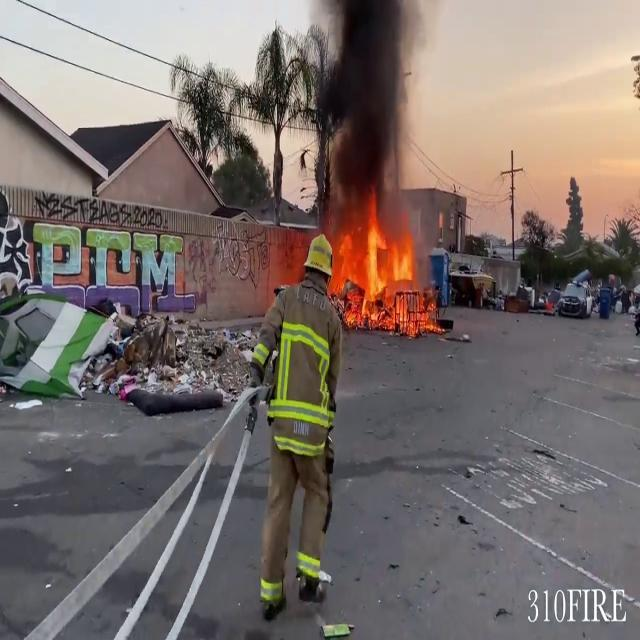Fire: (330, 205, 433, 332)
Smoke: (308, 0, 426, 206)
